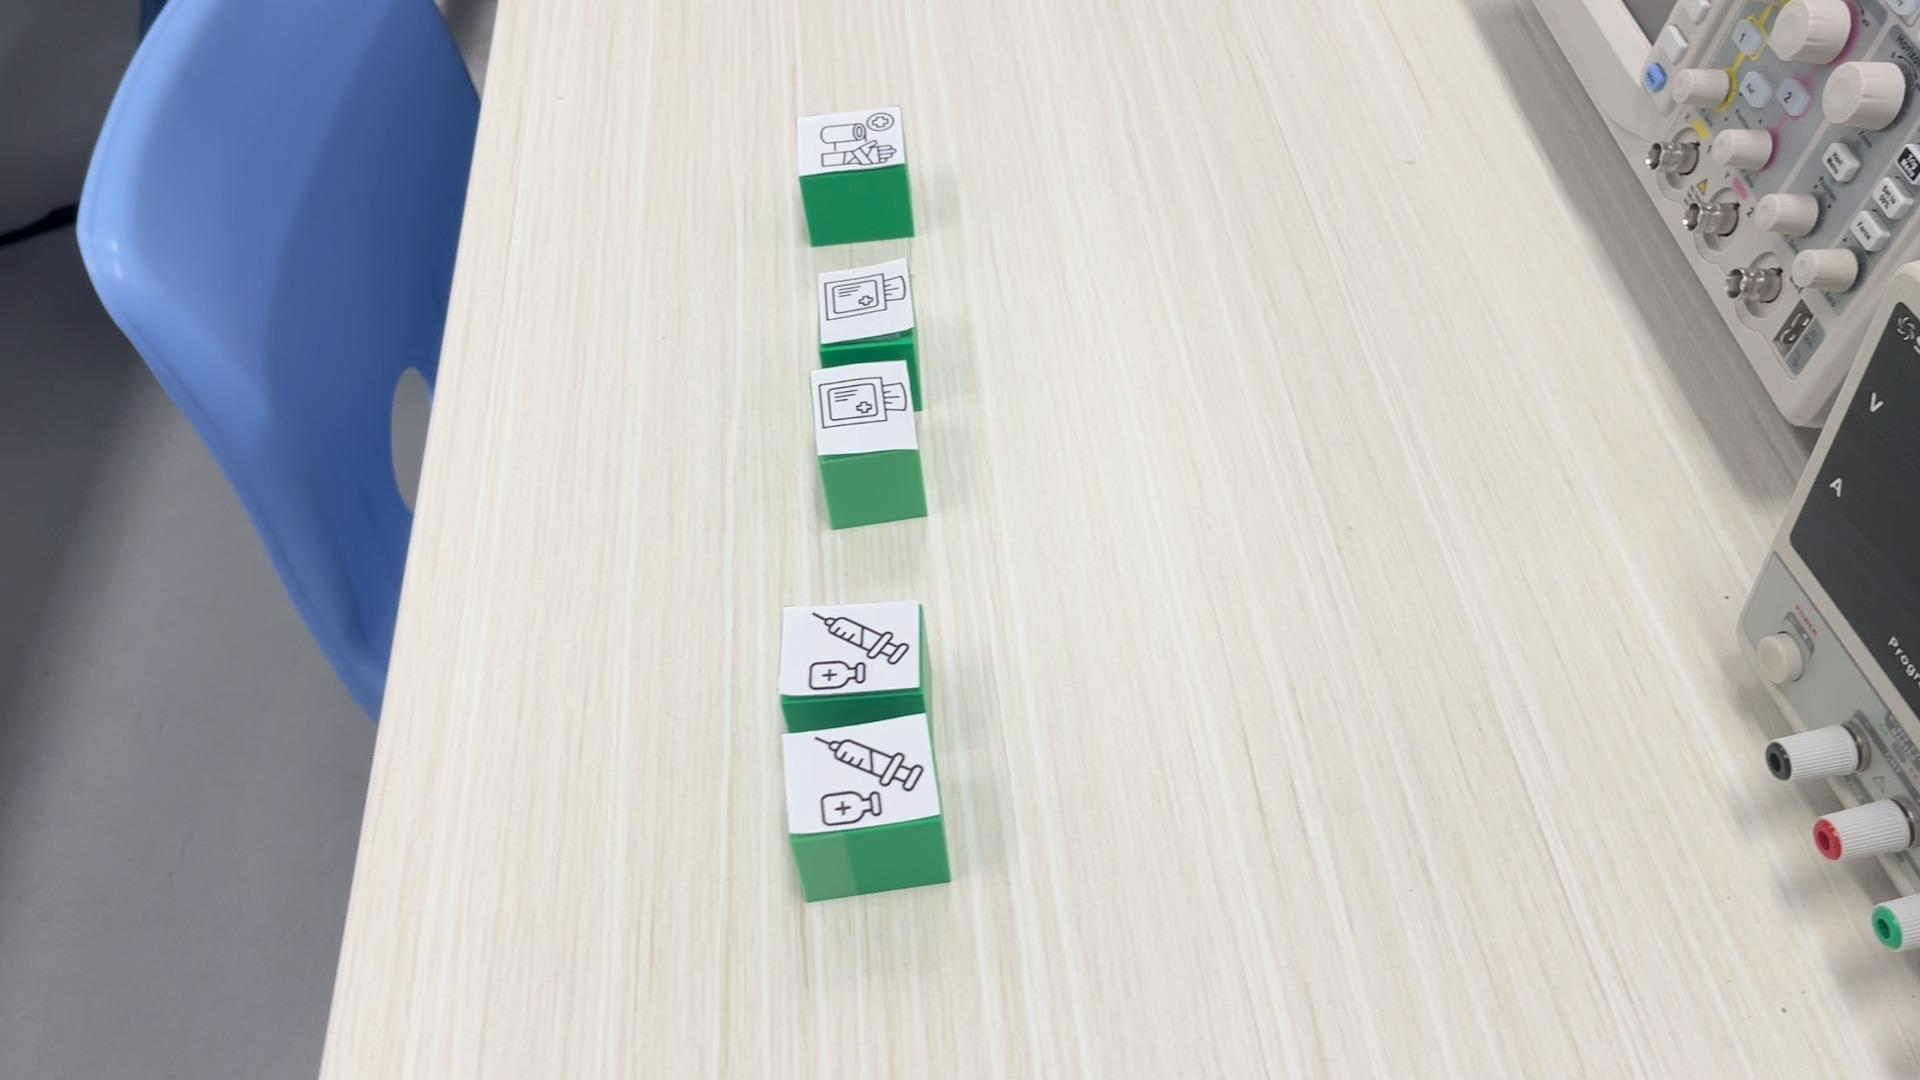Bandages: (794, 105, 916, 248)
Gauze: (812, 360, 928, 533), (820, 258, 918, 375)
antiseptic cream: (781, 709, 951, 903), (781, 601, 927, 732)
